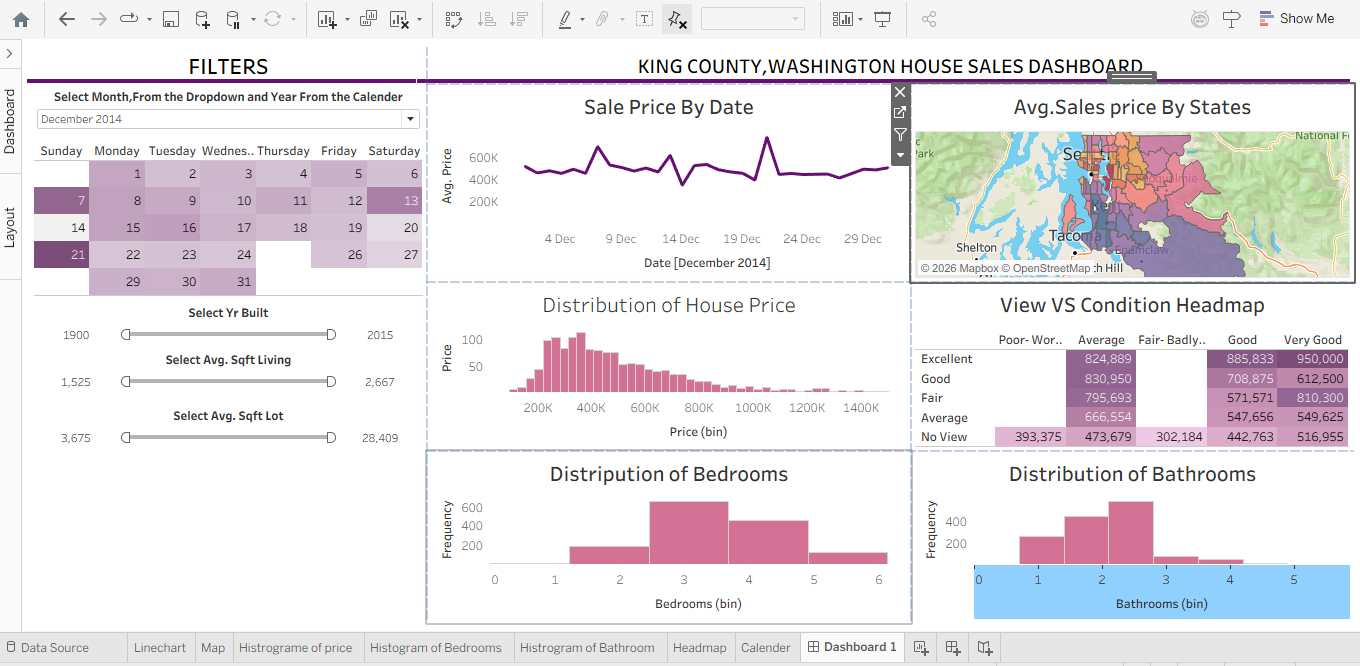

Layout of this report page (visuals, bound fields, positions):
{"tool":"tableau","page":{"name":"Dashboard 1","canvas":[1000,1000],"units":"permille","ordinal":0},"visuals":[{"type":"text","box":[6,13.5,296.4,62.5]},{"type":"text","box":[302.4,13.5,691.7,62.5]},{"type":"blank","box":[3.4,67.6,290.7,6.8]},{"type":"blank","box":[295,67.6,696.4,6.8]},{"type":"filter","title":"Calender","param":"[federated.141h8mz061nksw15f71wb1n8wvx9].[my:date:ok]","box":[6,76,296.4,87.8]},{"type":"worksheet","title":"Linechart","mark":"Automatic","rows":["price"],"cols":["date"],"box":[302.4,76,360.9,334.5]},{"type":"worksheet","title":"Map","mark":"Automatic","box":[663.2,76,330.8,334.5]},{"type":"worksheet","title":"Calender","mark":"Square","rows":["date"],"cols":["date"],"box":[6,163.8,296.4,277]},{"type":"worksheet","title":"Histrograme of price","mark":"Automatic","rows":["price"],"cols":["Price (bin)"],"box":[302.4,410.5,360.9,285.5]},{"type":"worksheet","title":"Headmap","mark":"Square","rows":["view"],"cols":["condition"],"box":[663.2,410.5,330.8,285.5]},{"type":"filter","title":"Calender","param":"[federated.141h8mz061nksw15f71wb1n8wvx9].[none:yr_built:qk]","box":[6,440.9,296.4,79.4]},{"type":"filter","title":"Calender","param":"[federated.141h8mz061nksw15f71wb1n8wvx9].[avg:sqft_living:qk]","box":[6,520.2,296.4,94.6]},{"type":"filter","title":"Calender","param":"[federated.141h8mz061nksw15f71wb1n8wvx9].[avg:sqft_lot:qk]","box":[6,614.8,296.4,86.2]},{"type":"worksheet","title":"Histogram of Bedrooms","mark":"Automatic","rows":["bedrooms"],"cols":["Bedrooms (bin)"],"box":[302.4,696,360.9,290.5]},{"type":"worksheet","title":"Histrogram of Bathroom","mark":"Automatic","rows":["bathrooms"],"cols":["Bathrooms (bin)"],"box":[663.2,696,330.8,290.5]}]}

Visuals, with their boxes on the dashboard's canvas, which has no fixed pixel size, in thousandths of its width and height (x1, y1, x2, y2). These are canvas units, not pixel positions in the 1360x666 screenshot, which may show the page scaled, cropped or inside an application window:
text: left=6, top=14, right=302, bottom=76
text: left=302, top=14, right=994, bottom=76
blank: left=3, top=68, right=294, bottom=74
blank: left=295, top=68, right=991, bottom=74
"Calender" filter: left=6, top=76, right=302, bottom=164
"Linechart" worksheet: left=302, top=76, right=663, bottom=410
"Map" worksheet: left=663, top=76, right=994, bottom=410
"Calender" worksheet (Square marks): left=6, top=164, right=302, bottom=441
"Histrograme of price" worksheet: left=302, top=410, right=663, bottom=696
"Headmap" worksheet (Square marks): left=663, top=410, right=994, bottom=696
"Calender" filter: left=6, top=441, right=302, bottom=520
"Calender" filter: left=6, top=520, right=302, bottom=615
"Calender" filter: left=6, top=615, right=302, bottom=701
"Histogram of Bedrooms" worksheet: left=302, top=696, right=663, bottom=986
"Histrogram of Bathroom" worksheet: left=663, top=696, right=994, bottom=986
